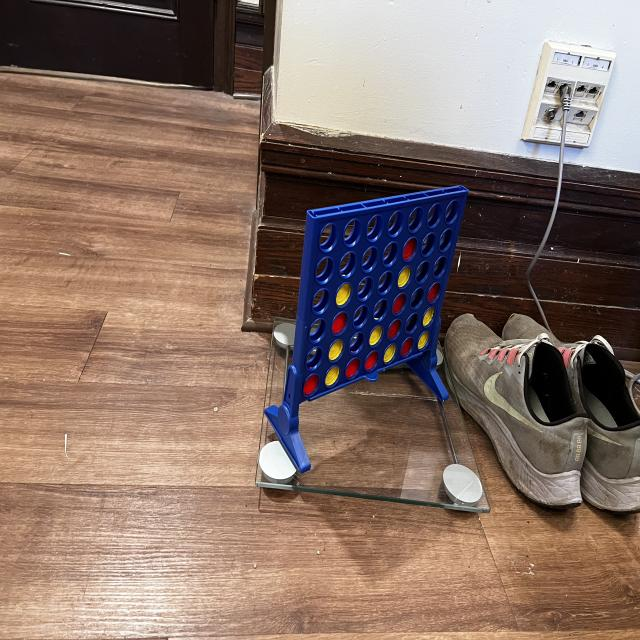Board: (292, 183, 468, 401)
No Piece: (314, 254, 335, 286), (320, 222, 339, 252), (311, 288, 331, 316), (338, 251, 358, 279), (360, 246, 380, 274), (344, 217, 362, 247), (366, 213, 384, 243), (356, 276, 375, 304), (381, 240, 400, 268), (307, 317, 327, 343), (388, 209, 405, 239), (406, 204, 423, 234), (352, 304, 370, 331), (347, 331, 367, 355), (305, 345, 323, 371), (377, 271, 395, 297), (426, 200, 442, 229), (431, 254, 448, 280), (445, 198, 460, 226), (408, 287, 426, 309), (420, 231, 436, 255), (414, 260, 430, 284), (403, 312, 420, 334), (372, 298, 388, 321), (439, 227, 453, 252)
Red Piece: (331, 310, 349, 336), (402, 236, 419, 262), (302, 374, 321, 396), (387, 317, 403, 341), (399, 336, 416, 358), (344, 357, 360, 380), (364, 350, 380, 372), (393, 291, 407, 315), (428, 281, 441, 304)
Yellow Piece: (336, 283, 353, 308), (328, 338, 345, 362), (324, 364, 341, 388), (397, 263, 412, 290), (369, 323, 384, 348), (383, 343, 398, 365), (422, 306, 436, 328), (417, 330, 430, 350)
